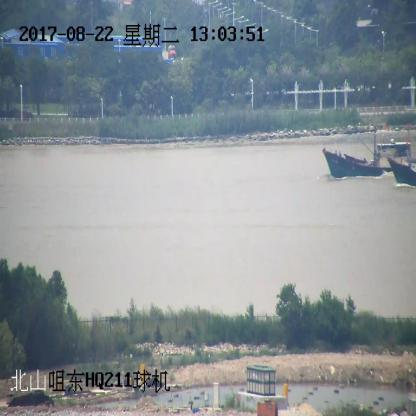Fishing Boat: (323, 138, 413, 177), (388, 153, 416, 188)
